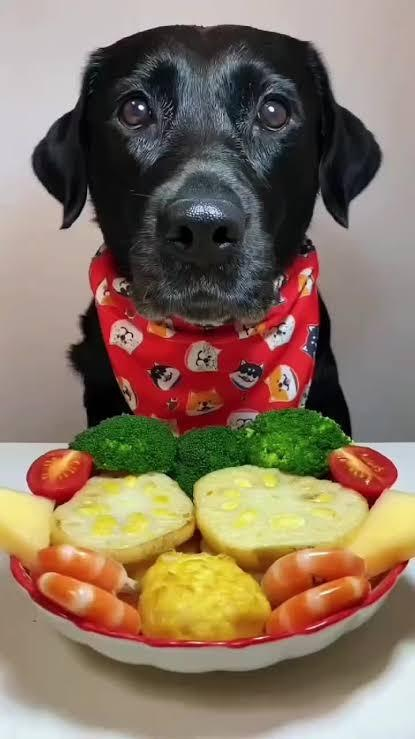adult_dog: (29, 23, 384, 433)
